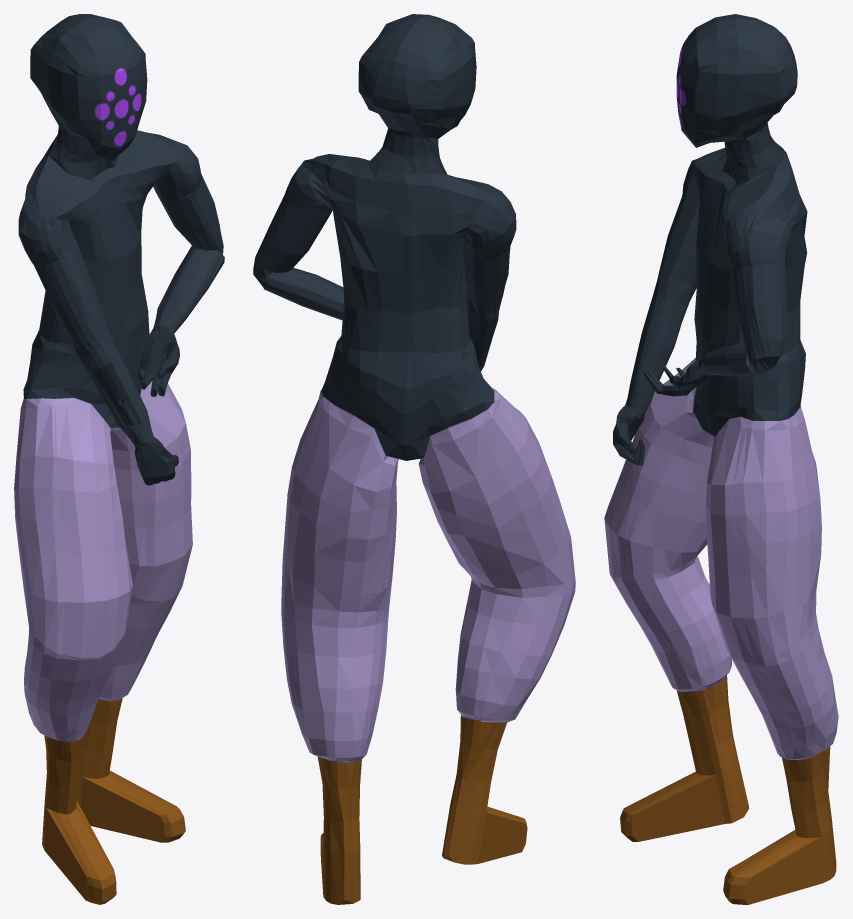
File: Oracle_WL_000025.obj
3 views of the same model, side by side, from view 1: azimuth 30°, elevation 25°; view 2: azimuth 150°, elevation 25°; view 3: azimuth 270°, elevation 25° (orthographic). The views are drawn at different scales.
Visible parts, largest first — view 1: Cube; view 2: Cube; view 3: Cube.
Boxes of the visible parts, box(x1,y1,x2,y2) form: Cube: box(14, 14, 224, 904); Cube: box(253, 14, 575, 904); Cube: box(604, 14, 838, 904).
Bounding box in the file's own units: 1.2 × 3.9 × 0.982.
